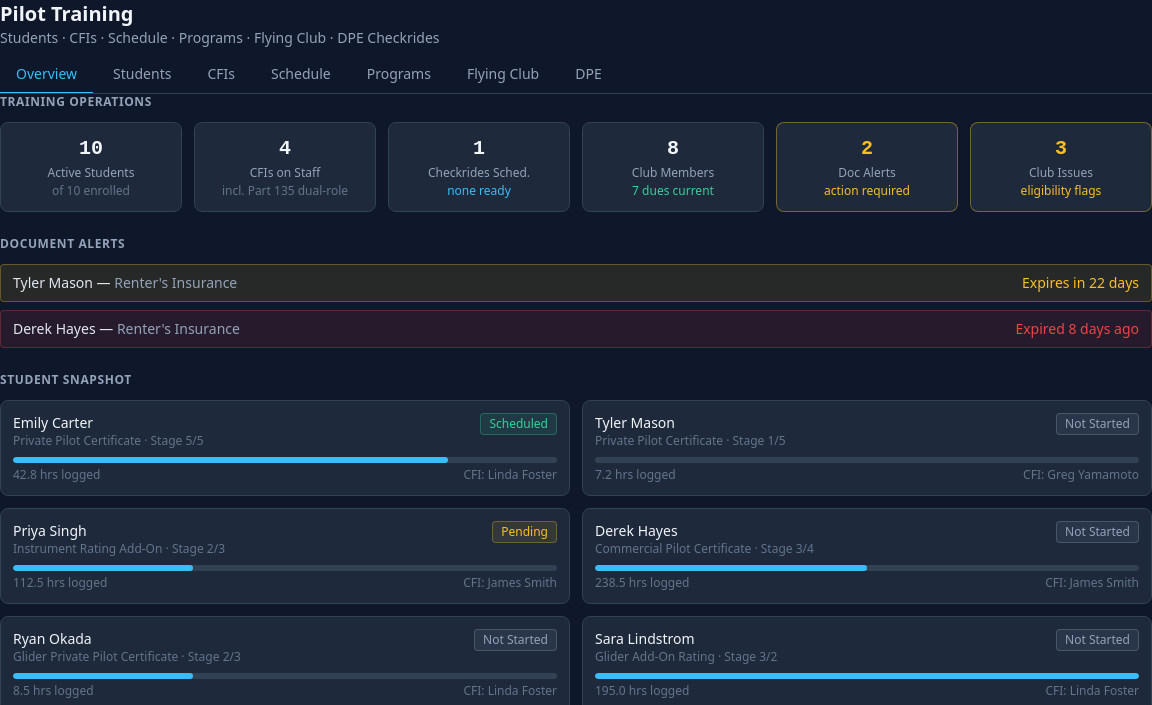
Test: Training component › clicking CFIs tab shows CFI roster section
Click the button "CFIs": (221, 75) x1=191 y1=56 x2=251 y2=94
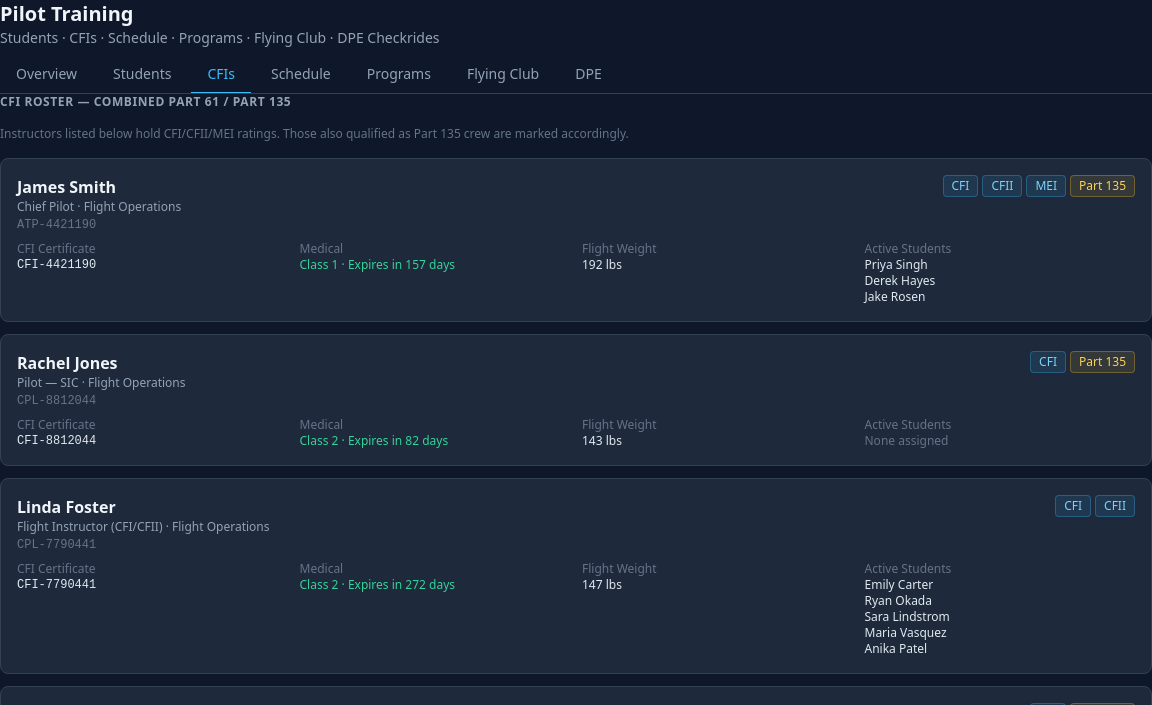
Check: the heading "CFI Roster — Combined Part 61 / Part 135" is shown, box x1=0 y1=93 x2=291 y2=110
